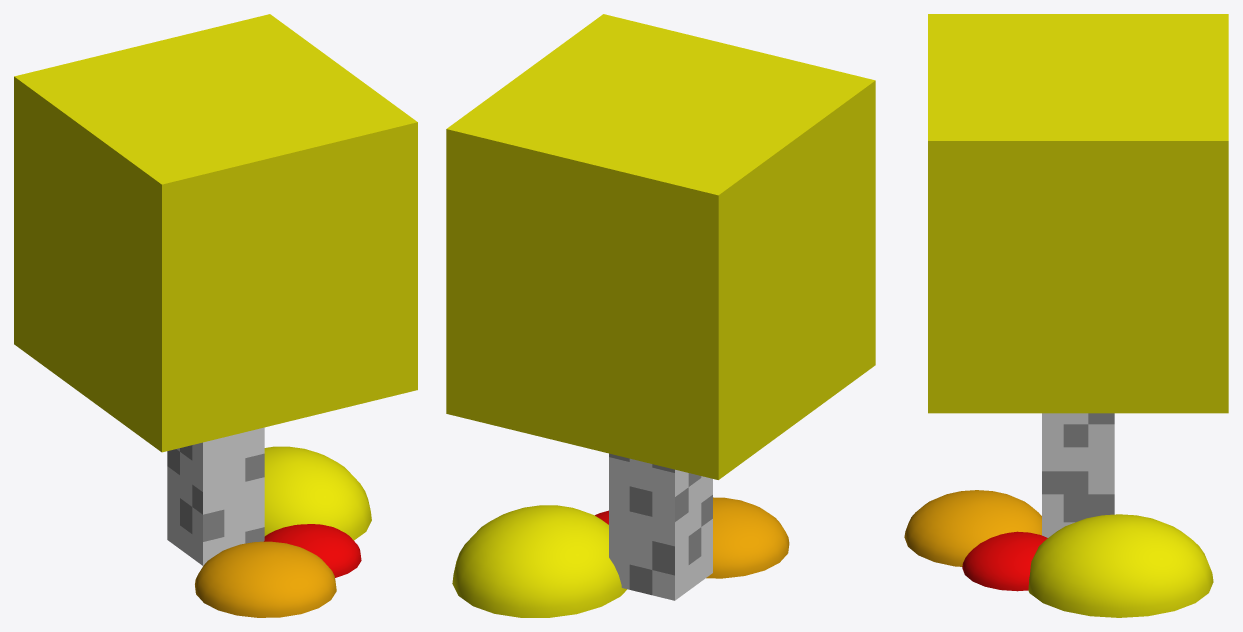
Rendered from Yellow Fall Tree.fbx.
3 renders of one model, left to right at view 1: azimuth 30°, elevation 25°; view 2: azimuth 150°, elevation 25°; view 3: azimuth 270°, elevation 25°, orthographic. The views are drawn at different scales.
Parts seen in each view (by area): view 1: polySurface5; view 2: polySurface5; view 3: polySurface5.
Boxes of the visible parts, <box> form: polySurface5: <box>14,14,417,617</box>; polySurface5: <box>446,14,875,617</box>; polySurface5: <box>904,14,1228,617</box>.
Size of the model in its own units: 4.7 by 6.99 by 4.47.
